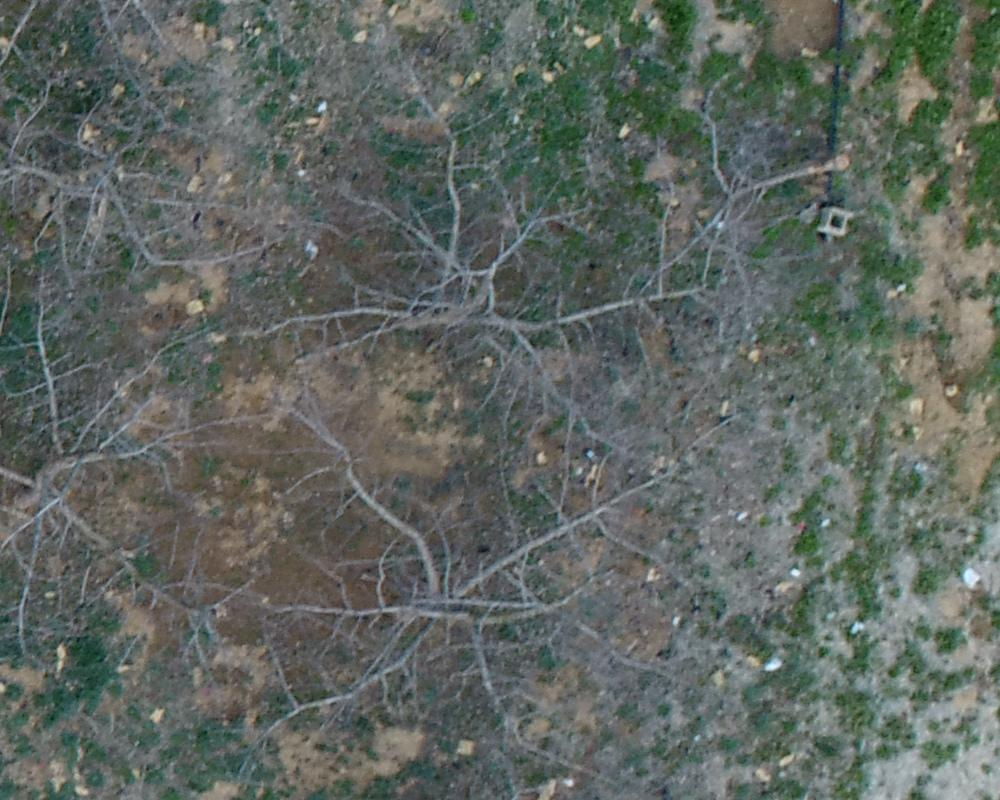apple: (247, 418, 687, 762), (266, 132, 775, 429), (10, 299, 232, 659), (10, 79, 272, 318)
